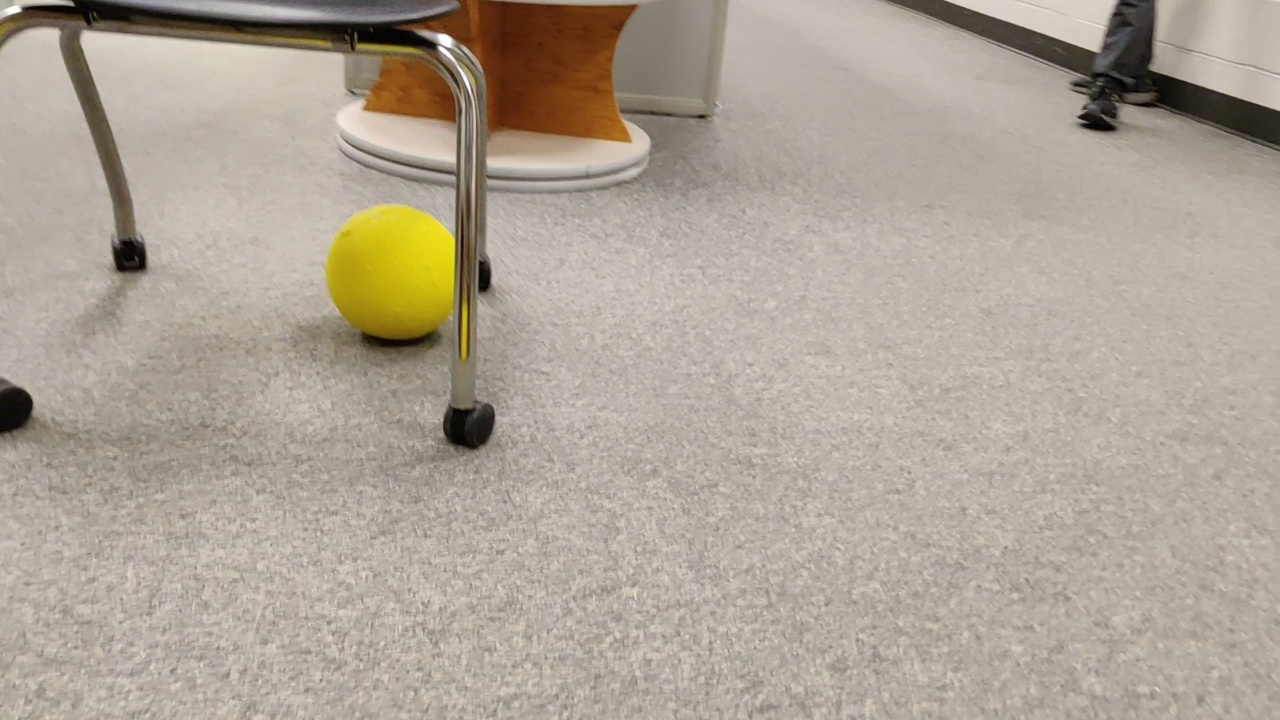Ball: (324, 203, 463, 345)
